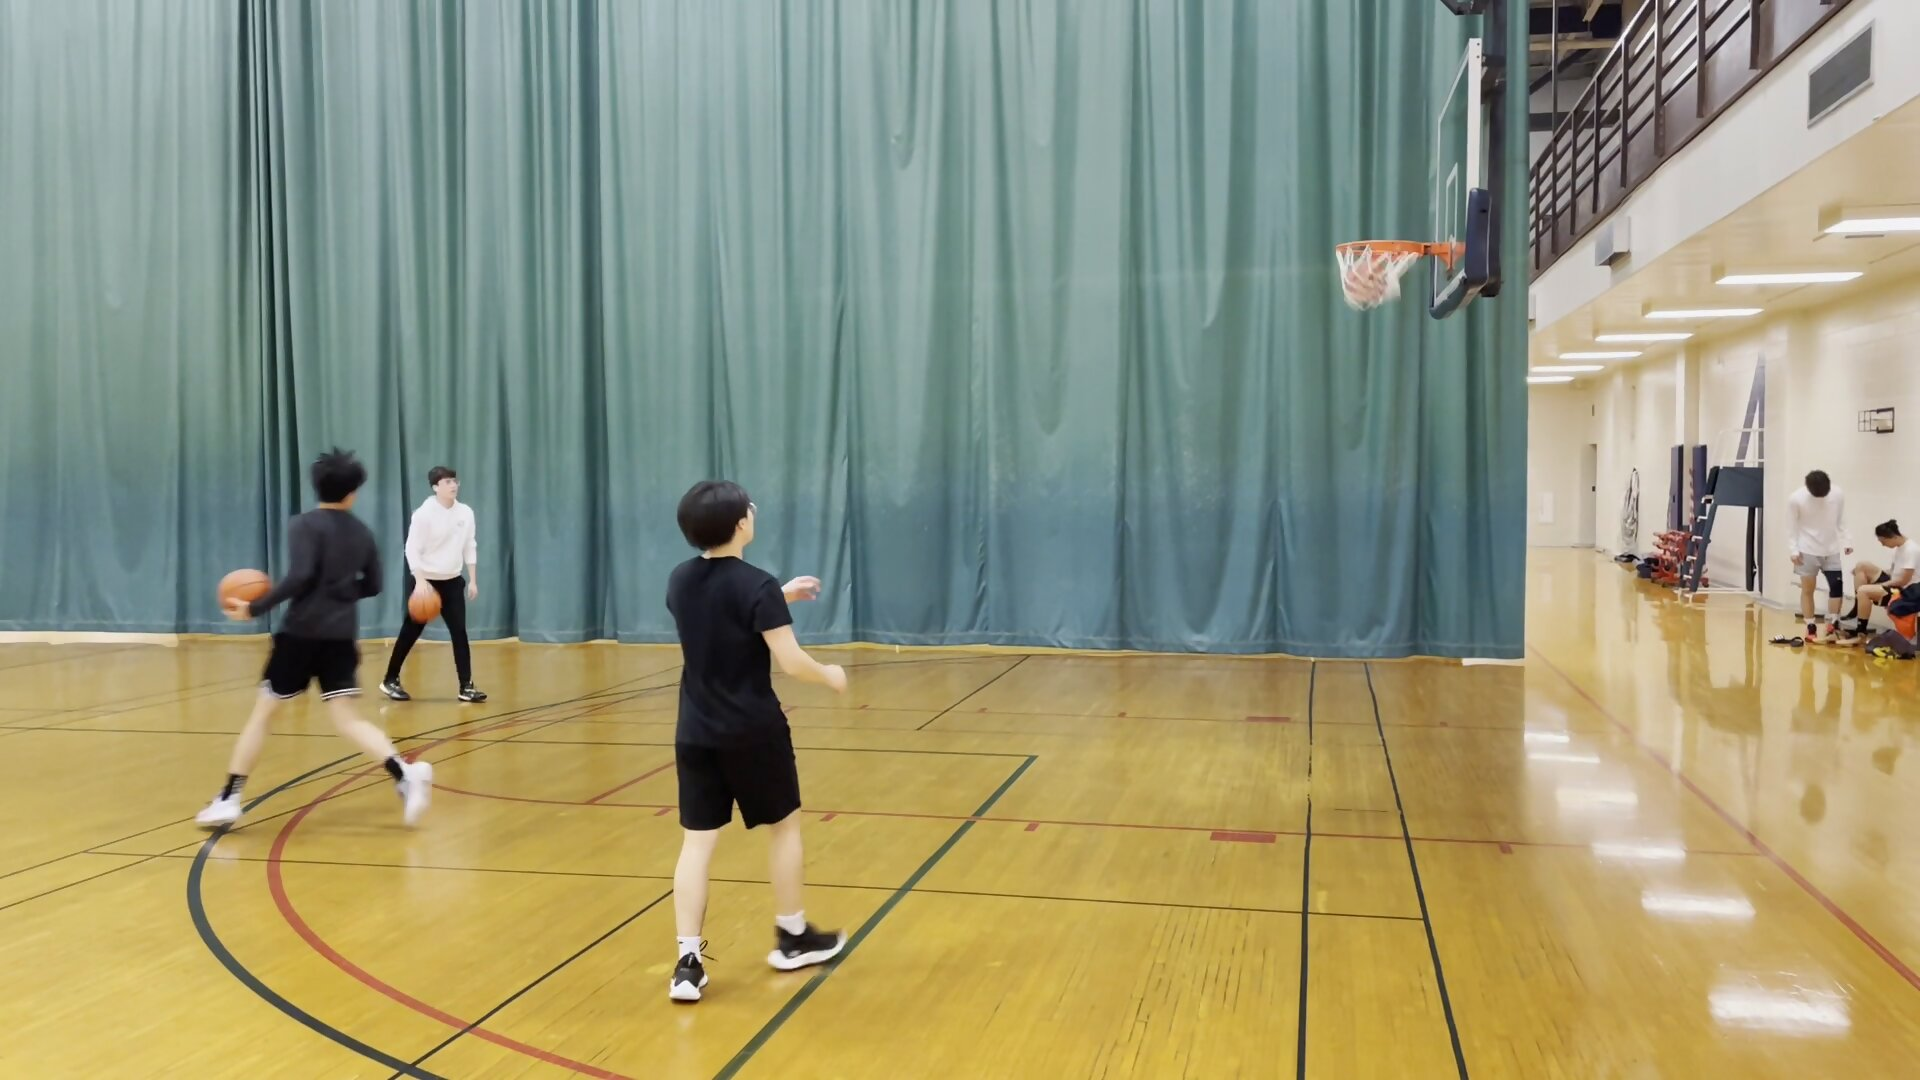ball: (215, 567, 274, 620), (1336, 260, 1392, 308), (407, 591, 441, 621)
net: (1343, 277, 1410, 310)
player: (664, 479, 845, 1002), (200, 450, 430, 839), (397, 465, 483, 707), (1783, 474, 1851, 650), (1850, 520, 1920, 643)
rim: (1330, 234, 1433, 264)
